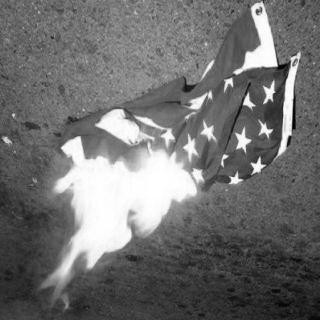Fire: (35, 143, 201, 313)
other: (57, 9, 261, 160)
